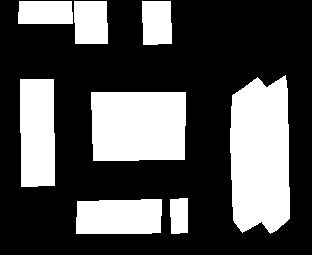parkingspot: (252, 75, 289, 233), (230, 77, 267, 232), (20, 79, 54, 186), (91, 92, 185, 127), (92, 125, 184, 160), (76, 199, 161, 233), (74, 1, 107, 43), (142, 1, 171, 44), (18, 1, 72, 23), (170, 198, 187, 233)
